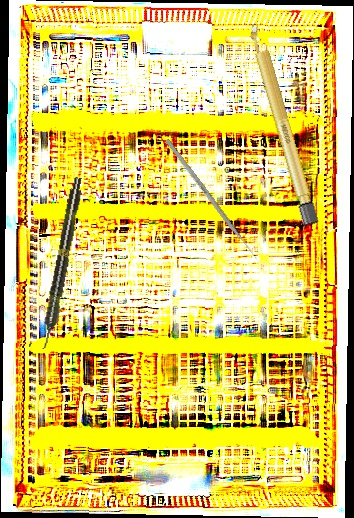Handpiece: (37, 176, 86, 351)
Pusher: (164, 138, 262, 265)
Scalpel Handle: (245, 20, 321, 227)
